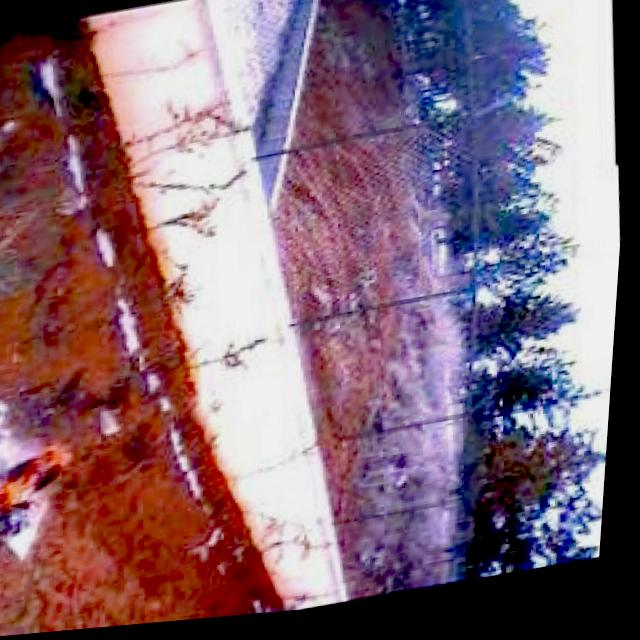Fire: (0, 439, 86, 538)
